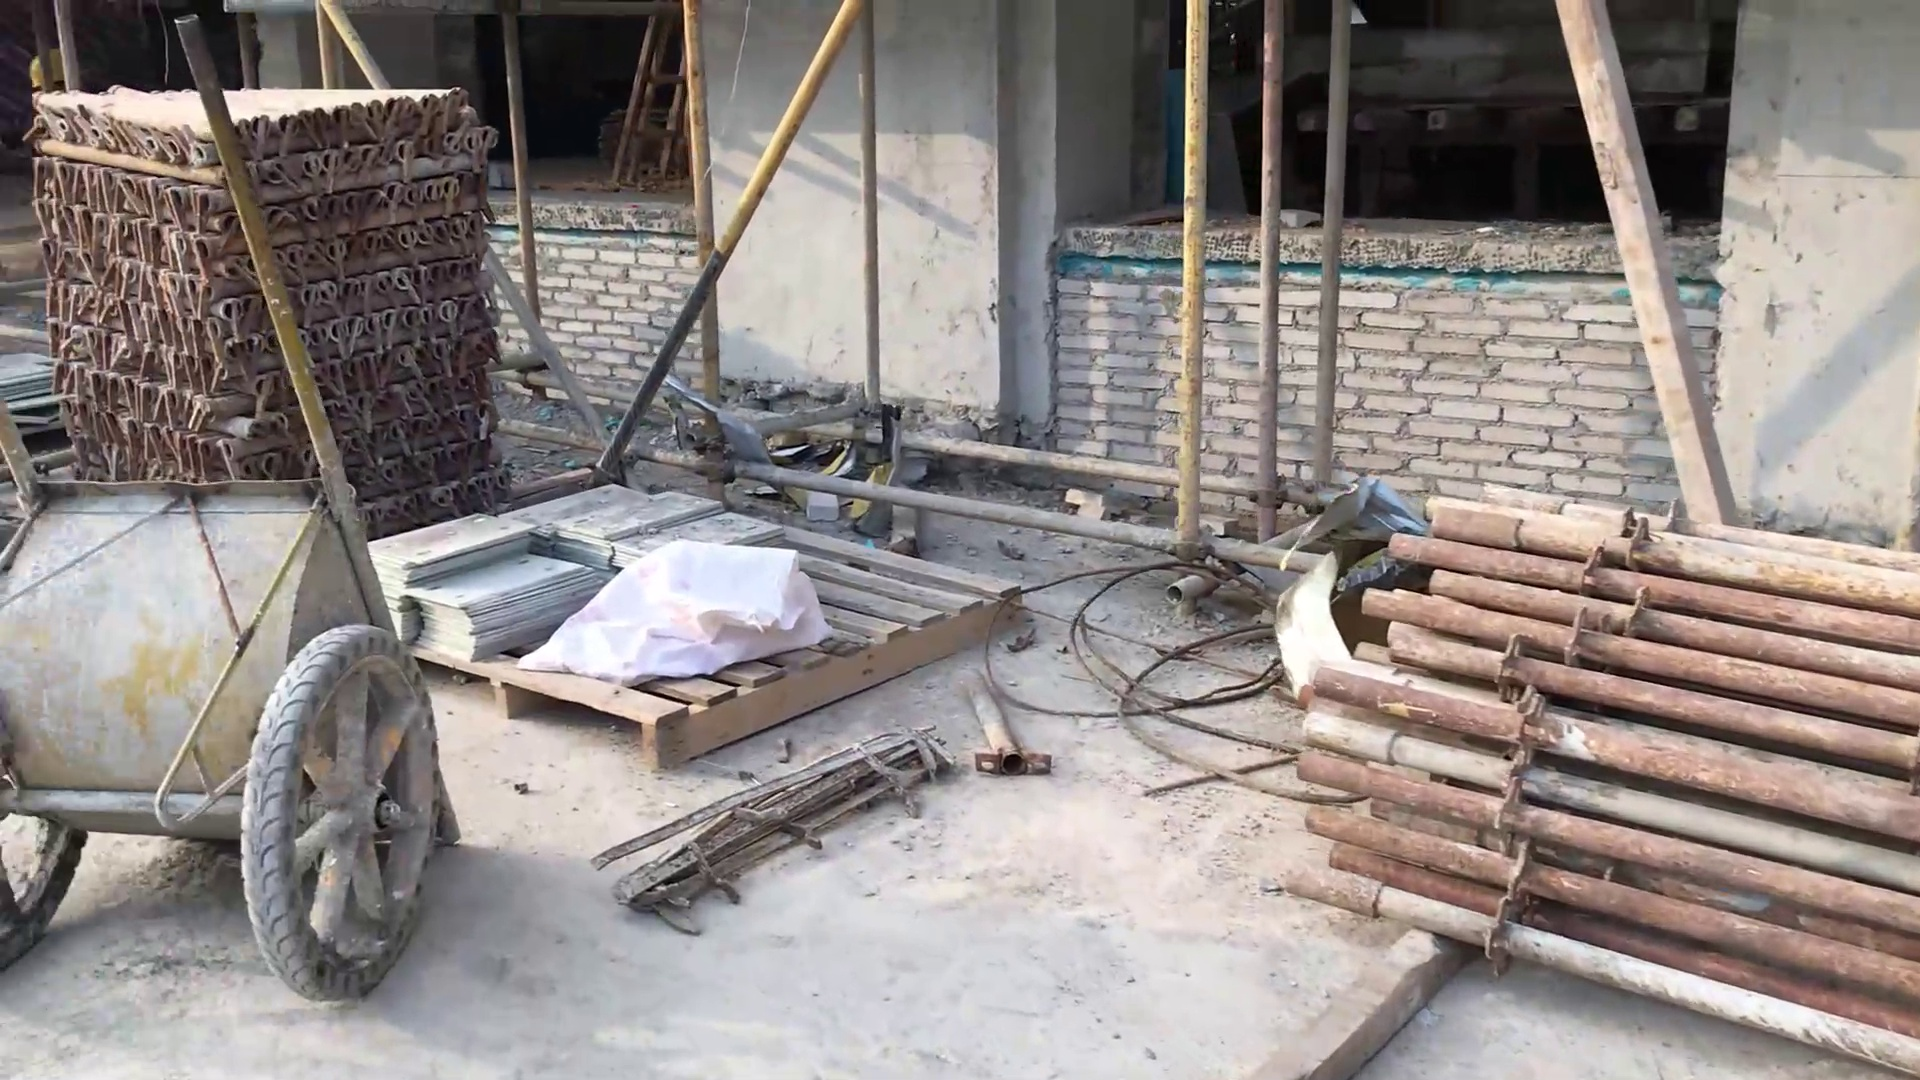handcart: (1, 11, 464, 1007)
helmet: (26, 45, 73, 91)
scaffold: (1298, 488, 1919, 1079), (24, 90, 512, 531)
